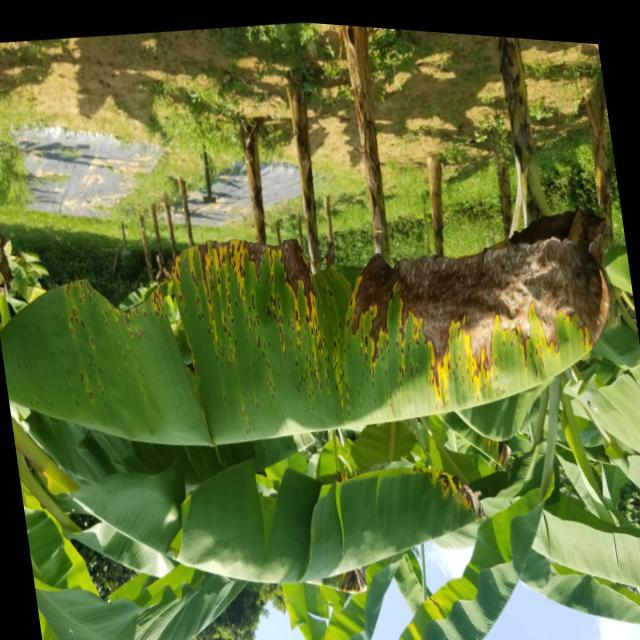Early_rust: (0, 188, 640, 548)
